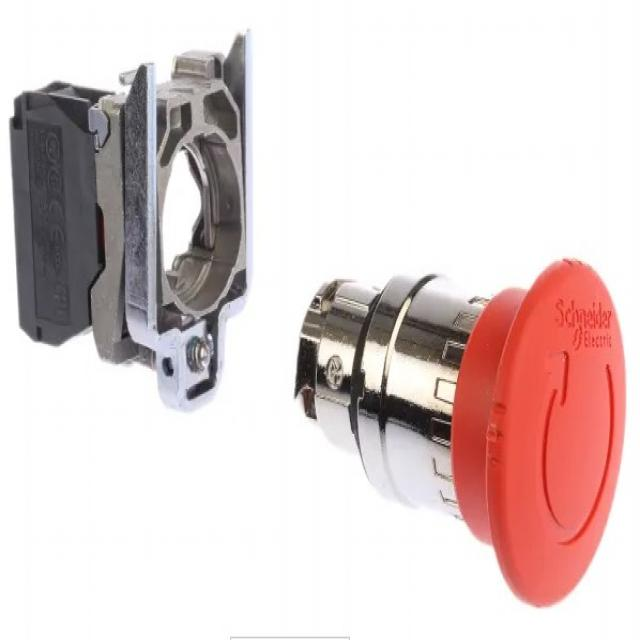safety switch: (382, 260, 627, 608)
